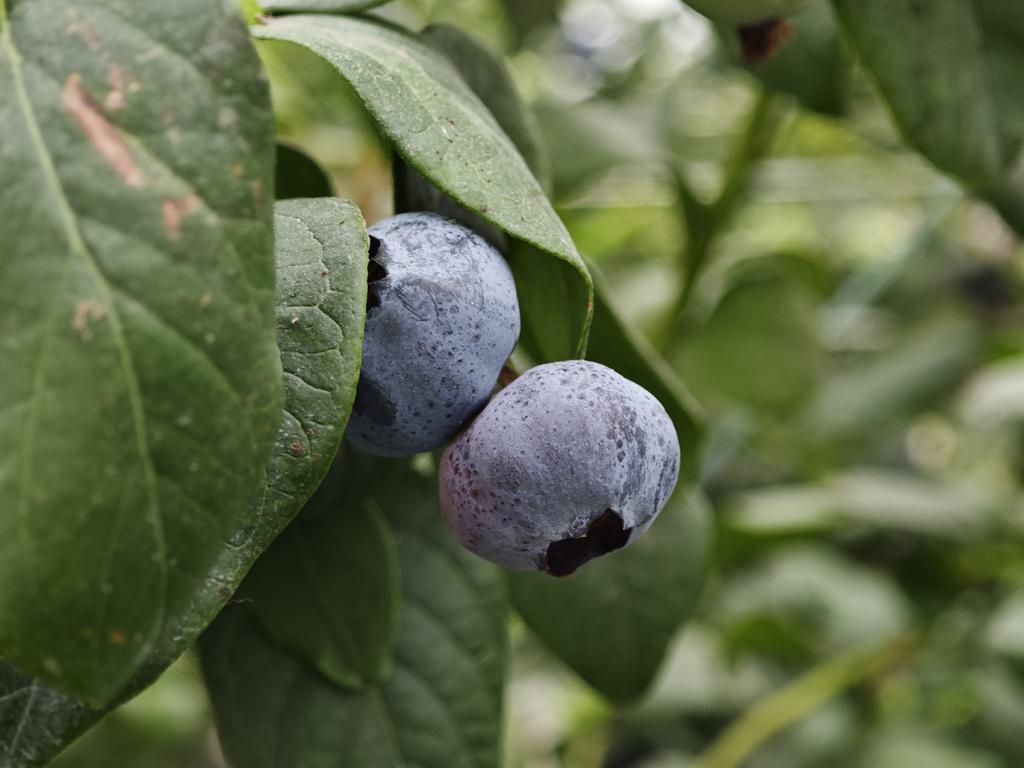RipeBlueBerry: (444, 356, 680, 571), (360, 213, 521, 456)
